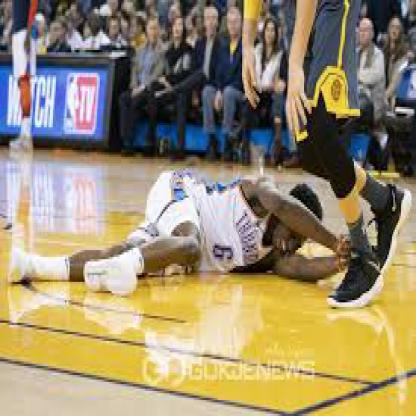Fall_Down: (8, 172, 354, 296)
